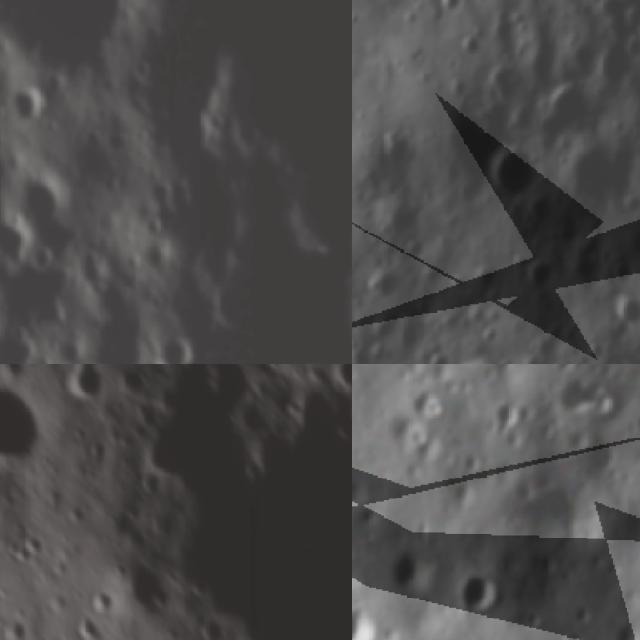crater: (124, 396, 352, 640), (0, 379, 45, 480), (558, 143, 629, 200), (14, 169, 78, 232), (480, 140, 540, 202), (530, 80, 595, 136), (557, 371, 617, 422), (391, 538, 435, 598), (458, 564, 500, 618), (8, 81, 54, 129), (582, 423, 624, 471), (55, 364, 109, 401), (146, 331, 200, 364), (596, 42, 632, 84), (27, 239, 63, 276), (522, 256, 557, 293), (352, 596, 380, 640), (374, 128, 408, 164), (609, 294, 640, 331), (366, 273, 401, 300), (605, 259, 637, 285), (469, 264, 501, 290), (415, 263, 446, 289), (457, 30, 482, 60), (397, 237, 424, 261), (423, 345, 454, 364), (435, 0, 472, 15), (518, 210, 541, 232), (598, 0, 620, 20), (352, 336, 370, 358), (352, 9, 367, 29)
